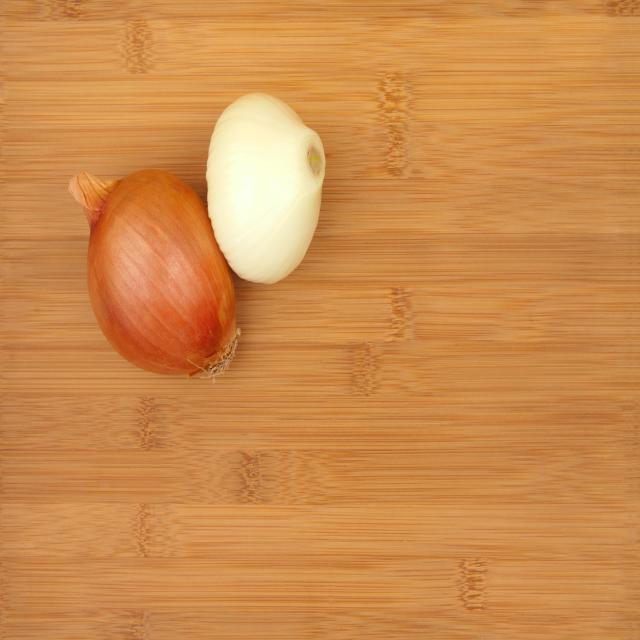onion: (85, 168, 238, 379), (207, 92, 326, 286)
